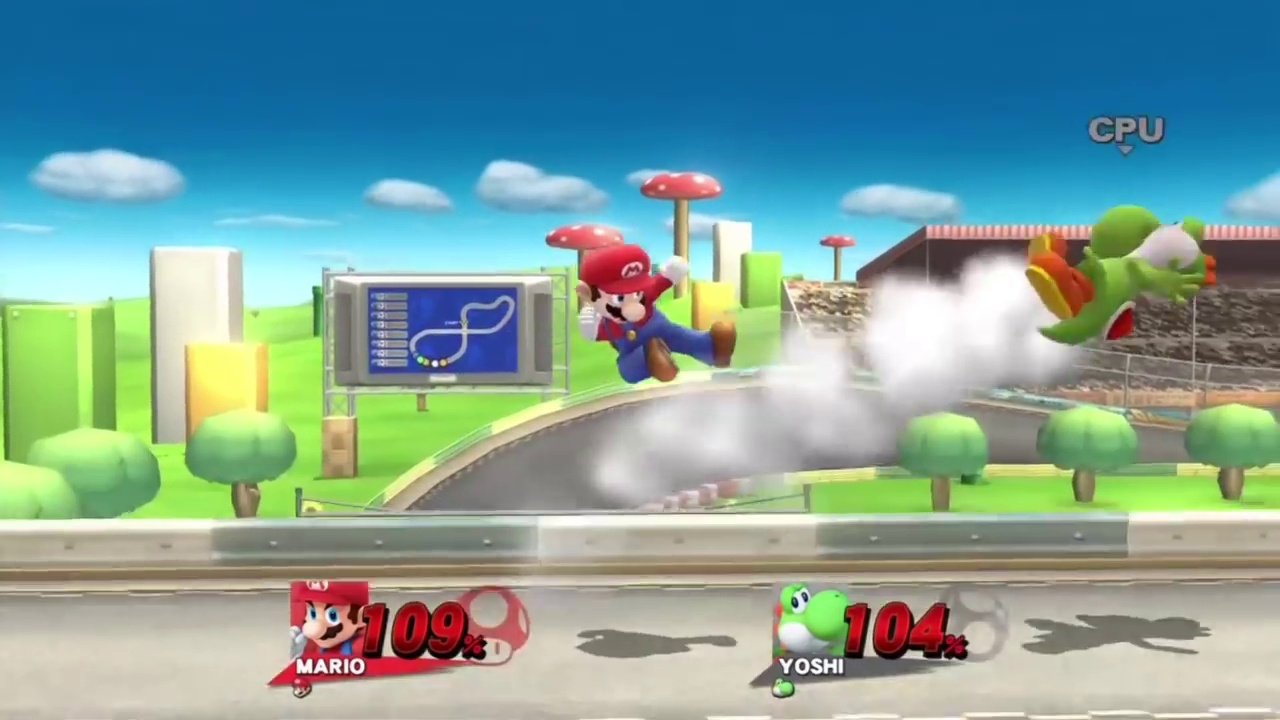Mario: (580, 246, 737, 388)
